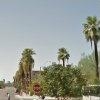Palm tree: (78, 13, 100, 94)
